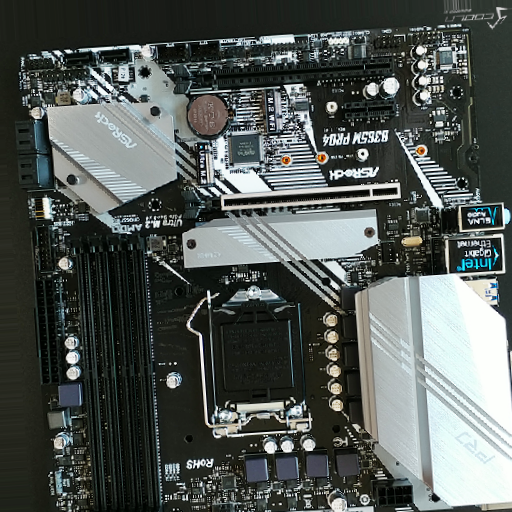CPU: (185, 283, 311, 437)
GPU: (211, 53, 396, 85), (218, 182, 402, 208)
MOTHERBOARD: (19, 20, 502, 512)
RAM: (71, 234, 164, 510)
SSD: (195, 142, 216, 186), (265, 88, 284, 136)
